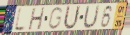6: (100, 5, 113, 29)
G: (47, 6, 64, 31)
H: (27, 6, 46, 32)
L: (13, 6, 27, 33)
U: (62, 5, 82, 31), (83, 5, 101, 30)
